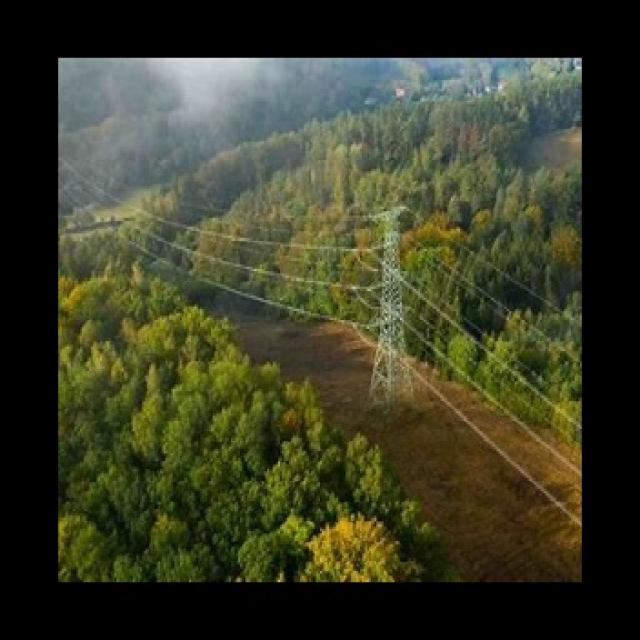utility poles: (349, 182, 441, 414)
